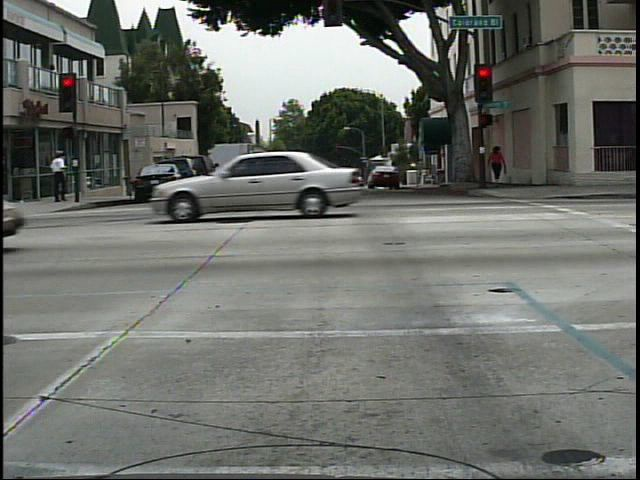person: (486, 138, 514, 194), (50, 144, 72, 206)
